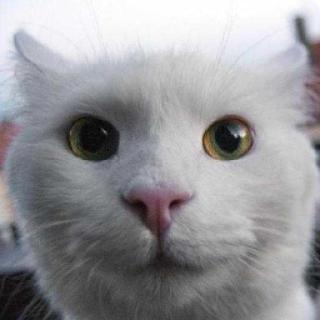cat: (17, 24, 314, 300)
nose: (114, 157, 209, 250)
